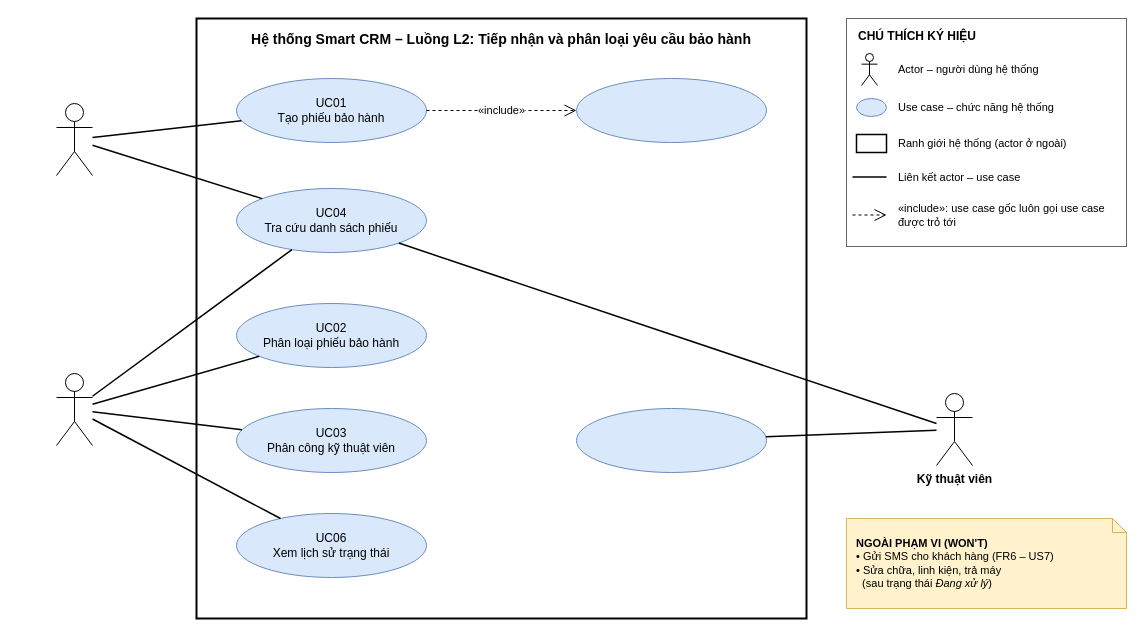
The diagram is 1144 pixels wide and 636 high, and some of its shapes have lost their labels. Here are the shapes that lost their labels. From the top down, the centre of each, then its label:
the point at 671,110: UC07 Tra cứu khách hàng
the point at 74,139: Nhân viên tiếp nhận
the point at 74,409: Điều phối viên
the point at 671,440: UC05 Cập nhật trạng thái phiếu
